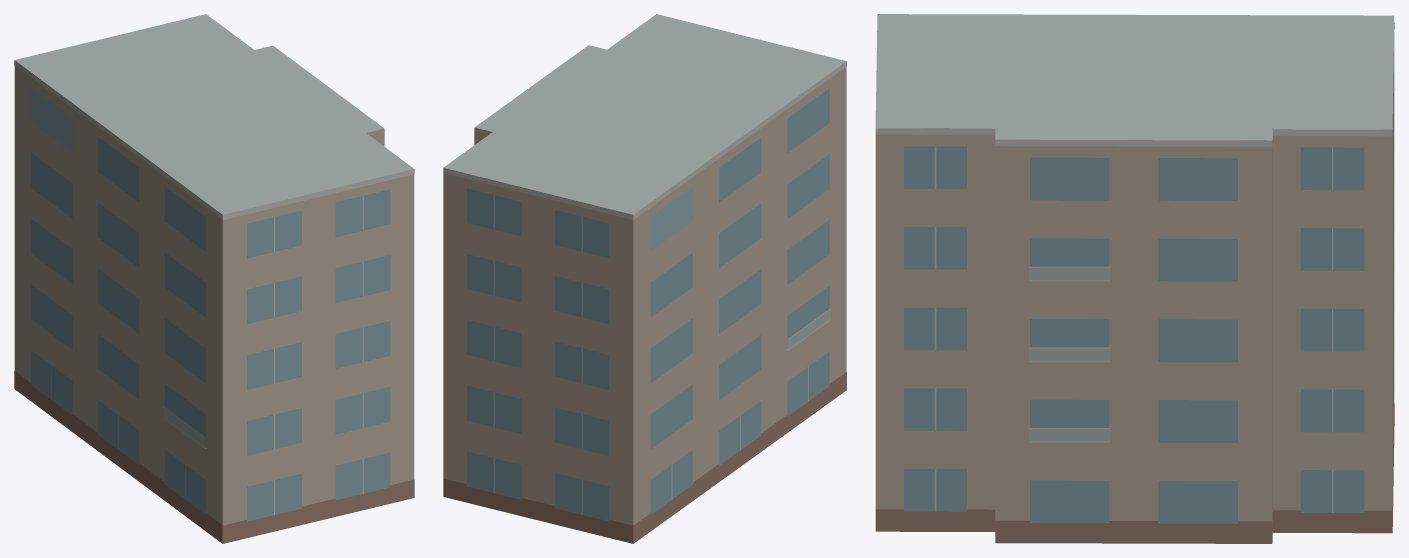
The model's file is survey-upis-32919742.glb.
The picture shows the model from 3 angles, left to right: view 1: azimuth 30°, elevation 25°; view 2: azimuth 150°, elevation 25°; view 3: azimuth 270°, elevation 25°; orthographic projection. The views are drawn at different scales.
Visible parts, largest first — view 1: survey-upis-32919742.tmp; view 2: survey-upis-32919742.tmp; view 3: survey-upis-32919742.tmp.
Part boxes in pixels (x1,y1,x2,y2): survey-upis-32919742.tmp: (14,14,414,543); survey-upis-32919742.tmp: (443,14,846,543); survey-upis-32919742.tmp: (875,14,1394,543).
Size of the model in its own units: 10.25 by 15.2 by 17.73.
